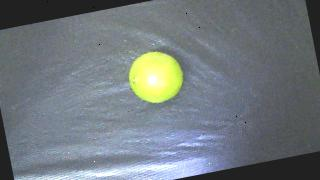LOCAL: (125, 46, 188, 107)
